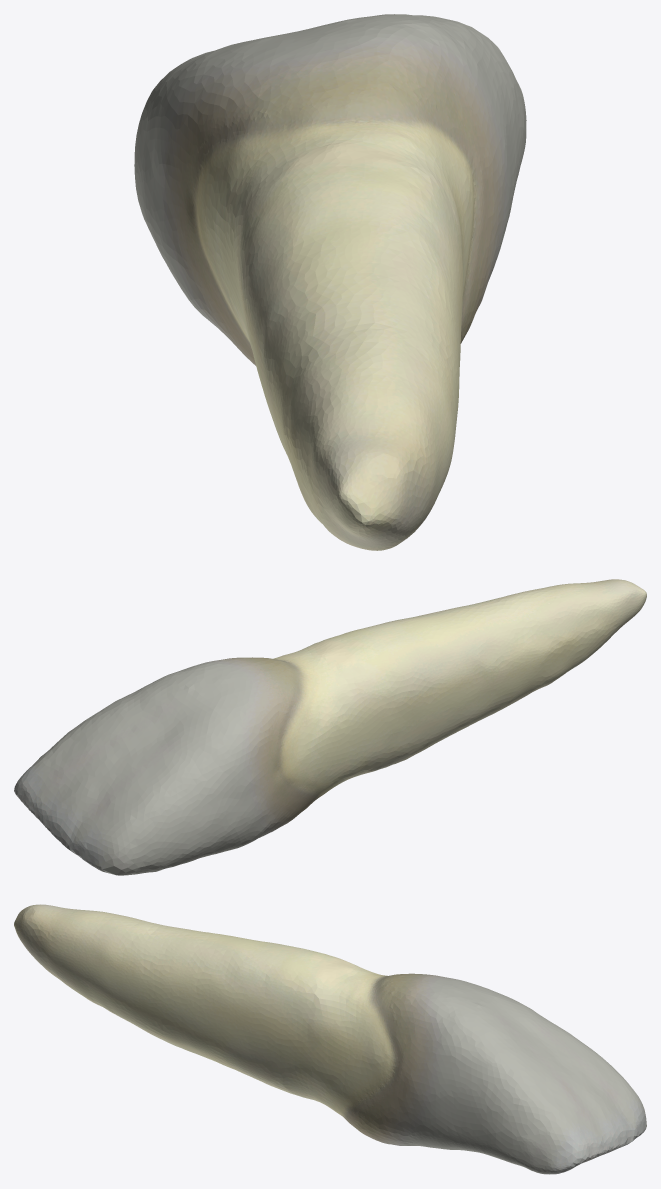
The picture shows the model from 3 angles, top to bottom: view 1: azimuth 30°, elevation 25°; view 2: azimuth 150°, elevation 25°; view 3: azimuth 270°, elevation 25°; orthographic projection. The views are drawn at different scales.
Visible parts, largest first — view 1: 3MFMeshParent_0; view 2: 3MFMeshParent_0; view 3: 3MFMeshParent_0.
Part boxes in pixels (<box>): 3MFMeshParent_0: <box>134,14,526,550</box>; 3MFMeshParent_0: <box>14,579,646,875</box>; 3MFMeshParent_0: <box>14,904,646,1174</box>.
Size of the model in its own units: 0.333 by 0.1433 by 0.512.
Materials: 1 (1 with a texture image).
